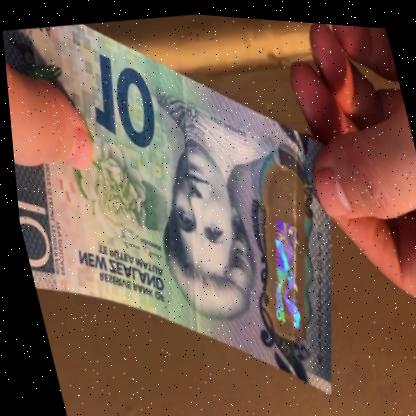10B: (243, 207, 321, 335)
